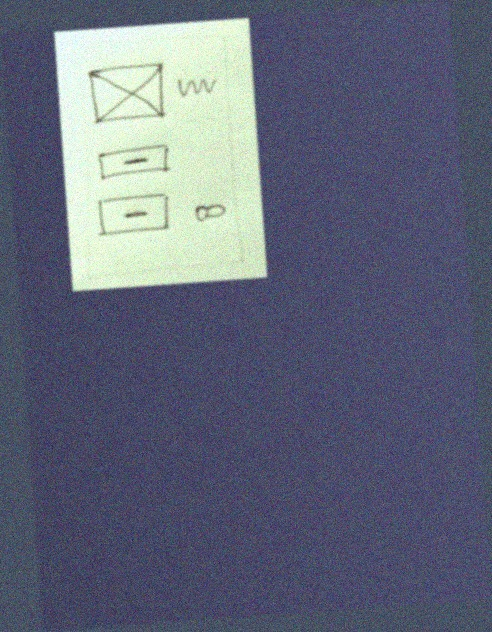button: (95, 191, 173, 237), (95, 145, 174, 182)
image: (86, 63, 169, 126)
switch: (191, 202, 229, 225)
text: (174, 73, 220, 101)
